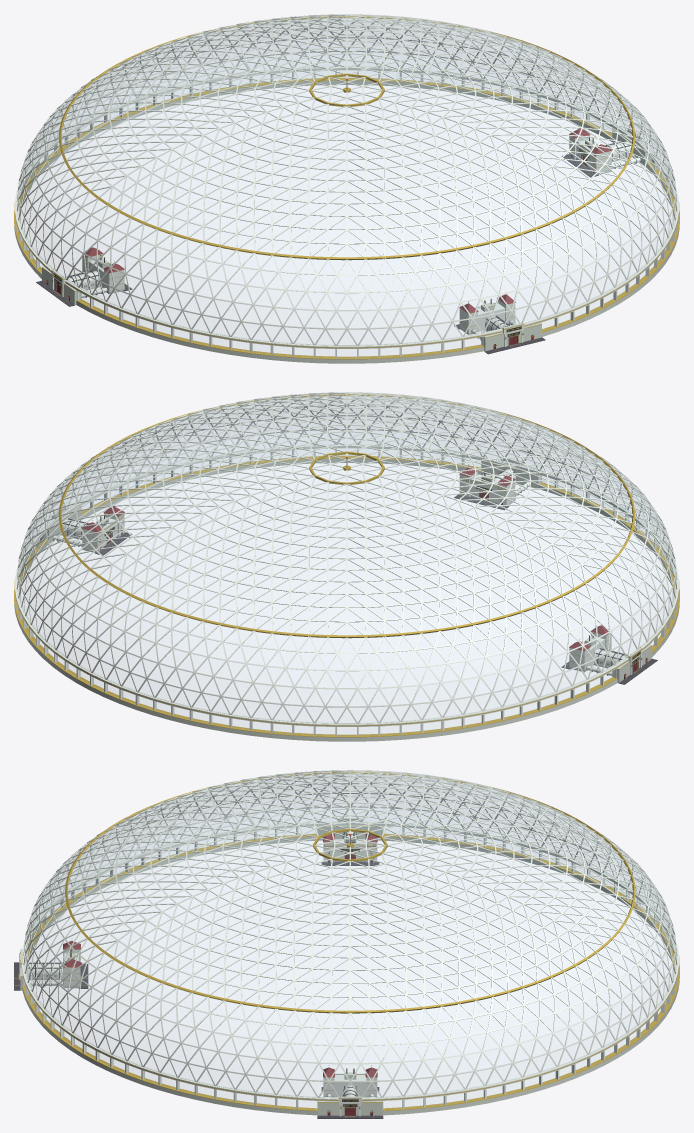
The model's file is downs-dome.glb.
The picture shows the model from 3 angles, top to bottom: view 1: azimuth 30°, elevation 25°; view 2: azimuth 150°, elevation 25°; view 3: azimuth 270°, elevation 25°; orthographic projection.
Visible parts, largest first — view 1: dn_dome_glass, dn_dome_struts, dn_dome_mint, dn_dome_mint2, dn_dome_gold, dn_dome_rings, dn_dome_drumGlass, dn_dome_pilasters, dn_dome_band, dn_lock_main_gh_mint, dn_lock_main_mint2, dn_lock_west_gh_mint (+1 smaller); view 2: dn_dome_glass, dn_dome_struts, dn_dome_mint, dn_dome_mint2, dn_dome_gold, dn_dome_rings, dn_dome_drumGlass, dn_dome_pilasters, dn_dome_band, dn_lock_main_gh_mint, dn_lock_west_gh_mint, dn_lock_east_gh_mint (+1 smaller); view 3: dn_dome_glass, dn_dome_struts, dn_dome_mint, dn_dome_mint2, dn_dome_gold, dn_dome_rings, dn_dome_drumGlass, dn_dome_pilasters, dn_dome_band, dn_lock_east_mint2, dn_lock_east_gh_mint, dn_lock_west_gh_mint (+1 smaller).
Boxes of the visible parts, bbox=[...] form: dn_dome_glass: bbox=[19, 15, 674, 344]; dn_dome_struts: bbox=[16, 14, 677, 345]; dn_dome_mint: bbox=[15, 66, 678, 348]; dn_dome_mint2: bbox=[14, 80, 679, 363]; dn_dome_gold: bbox=[14, 77, 679, 359]; dn_dome_rings: bbox=[58, 15, 635, 260]; dn_dome_drumGlass: bbox=[22, 240, 671, 357]; dn_dome_pilasters: bbox=[15, 70, 678, 358]; dn_dome_band: bbox=[14, 202, 679, 348]; dn_lock_main_gh_mint: bbox=[459, 300, 515, 332]; dn_lock_main_mint2: bbox=[481, 323, 541, 351]; dn_lock_west_gh_mint: bbox=[82, 254, 124, 291]; dn_dome_glass: bbox=[19, 393, 674, 722]; dn_dome_struts: bbox=[16, 392, 677, 723]; dn_dome_mint: bbox=[15, 444, 678, 726]; dn_dome_mint2: bbox=[14, 458, 679, 741]; dn_dome_gold: bbox=[14, 455, 679, 737]; dn_dome_rings: bbox=[58, 393, 635, 638]; dn_dome_drumGlass: bbox=[22, 618, 671, 735]; dn_dome_pilasters: bbox=[15, 448, 678, 736]; dn_dome_band: bbox=[14, 580, 679, 726]; dn_lock_main_gh_mint: bbox=[459, 471, 515, 504]; dn_lock_west_gh_mint: bbox=[569, 632, 611, 669]; dn_lock_east_gh_mint: bbox=[82, 513, 124, 550]; dn_dome_glass: bbox=[24, 771, 674, 1097]; dn_dome_struts: bbox=[23, 770, 677, 1098]; dn_dome_mint: bbox=[21, 821, 678, 1101]; dn_dome_mint2: bbox=[22, 836, 679, 1115]; dn_dome_gold: bbox=[22, 833, 679, 1111]; dn_dome_rings: bbox=[65, 771, 635, 1013]; dn_dome_drumGlass: bbox=[28, 992, 671, 1108]; dn_dome_pilasters: bbox=[23, 826, 678, 1110]; dn_dome_band: bbox=[21, 956, 679, 1100]; dn_lock_east_mint2: bbox=[318, 1096, 382, 1115]; dn_lock_east_gh_mint: bbox=[323, 1075, 376, 1097]; dn_lock_west_gh_mint: bbox=[323, 839, 376, 861].
Size of the model in its own units: 560 by 131 by 554.
